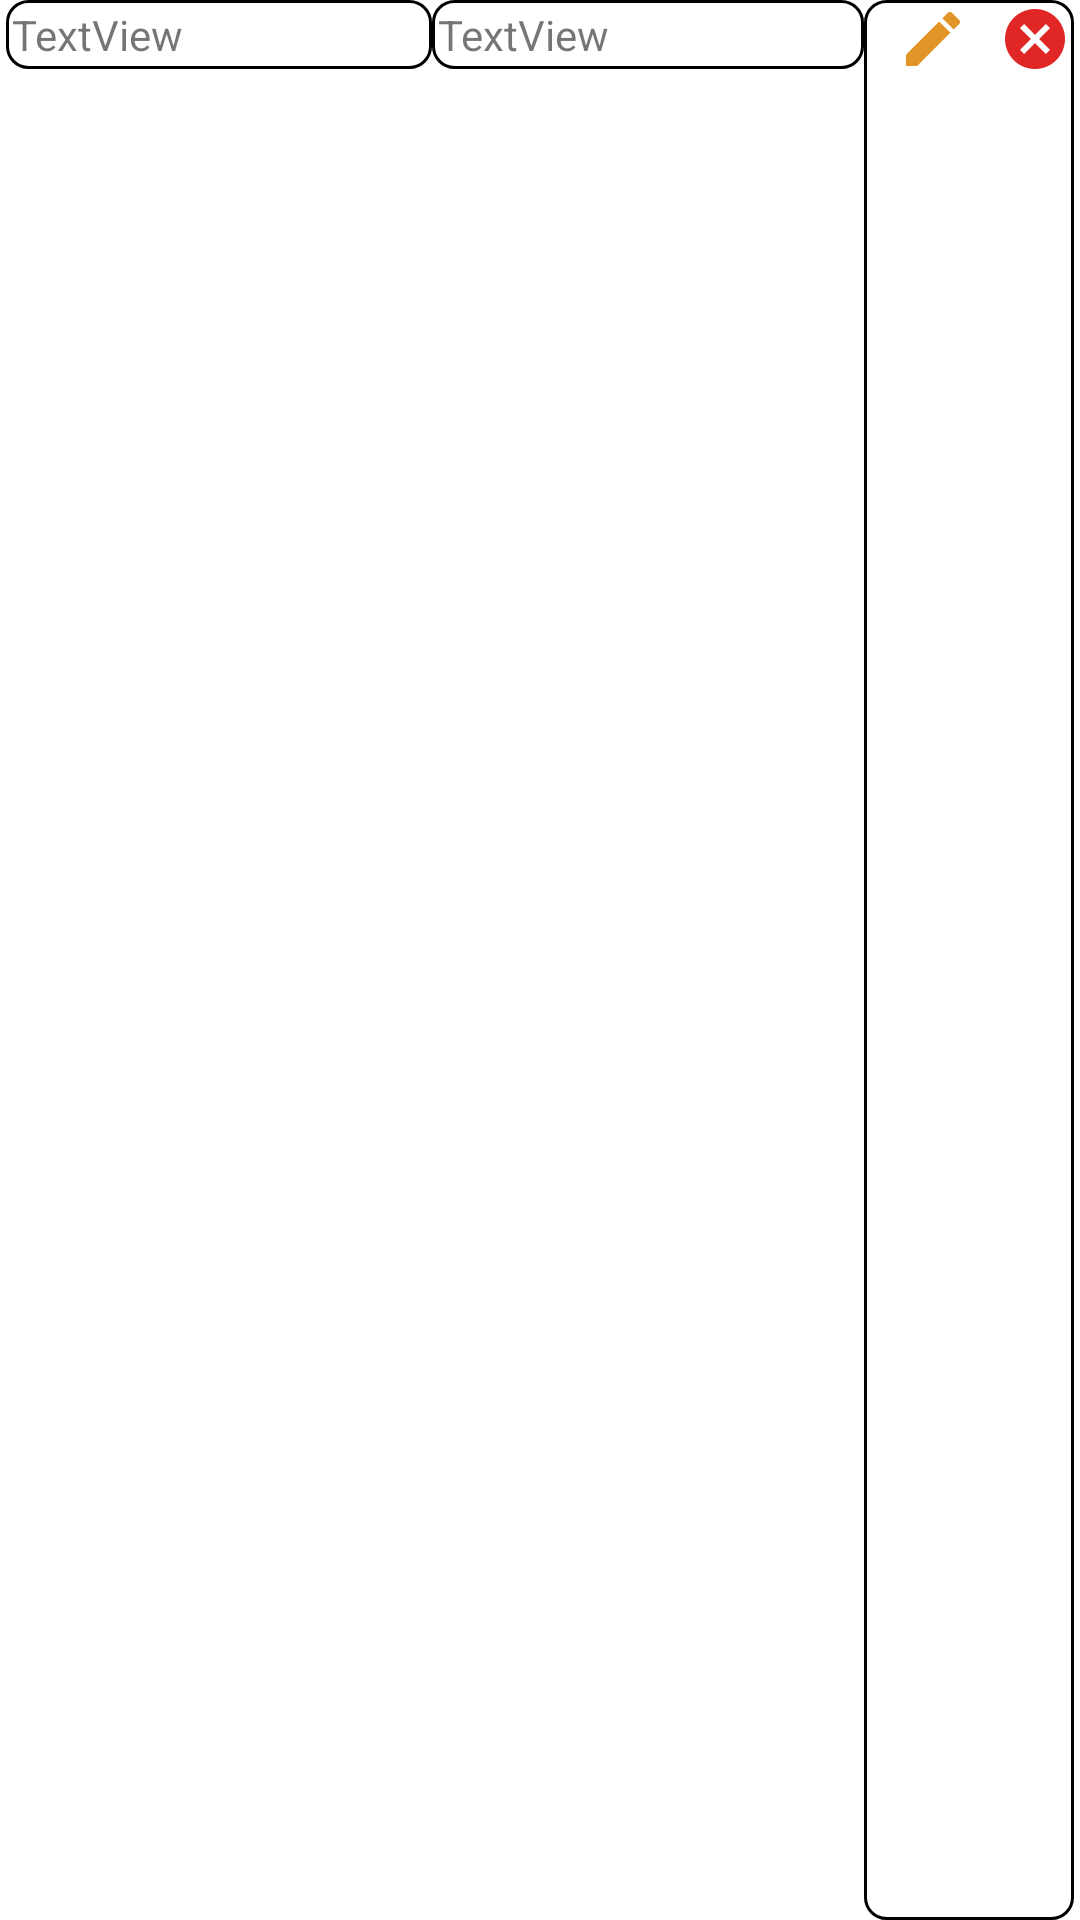

Locate icon controls on the screen. Image size 1080px x 1920px, boxes as (x1, y1, x2, y2).
cancel: (1005, 9, 1065, 69)
edit: (906, 12, 960, 66)
